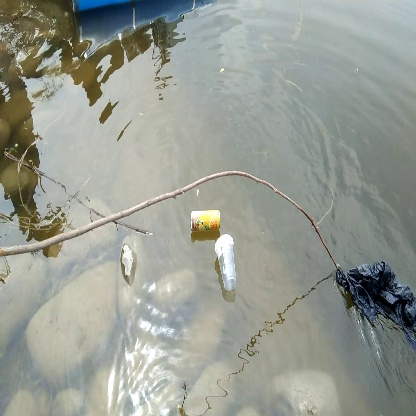bottle: (212, 233, 240, 294), (185, 203, 223, 231)
